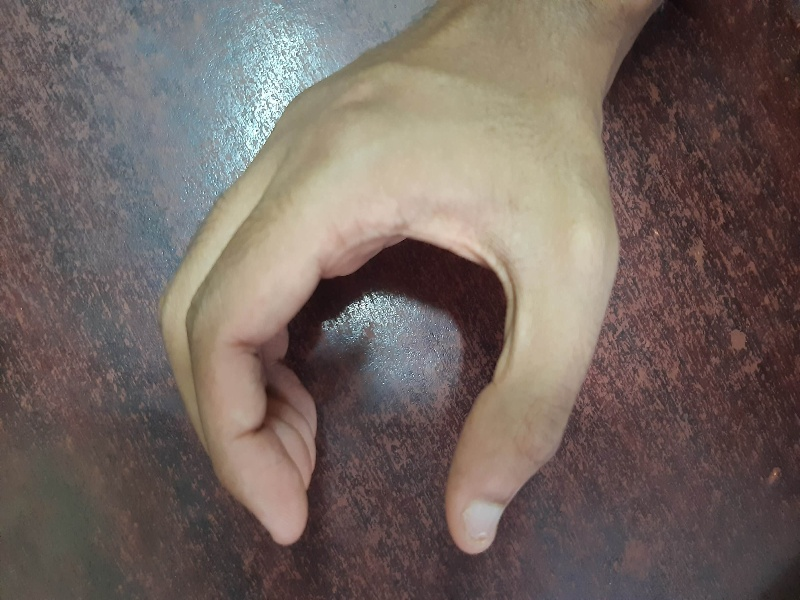one: (151, 66, 664, 571)
